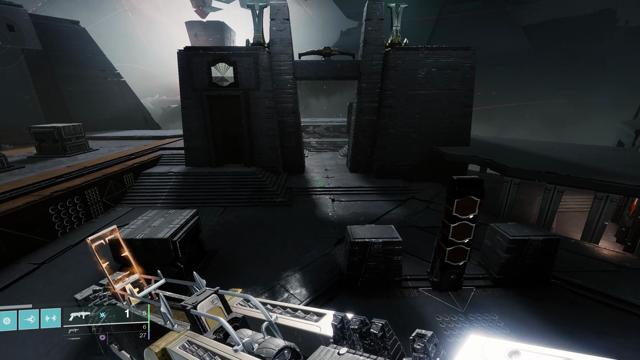commune: (211, 63, 235, 87)
kill: (626, 197, 640, 220)
